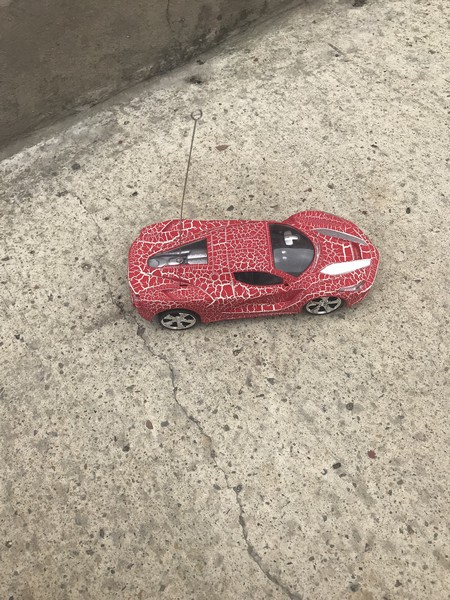RC: (126, 208, 380, 331)
